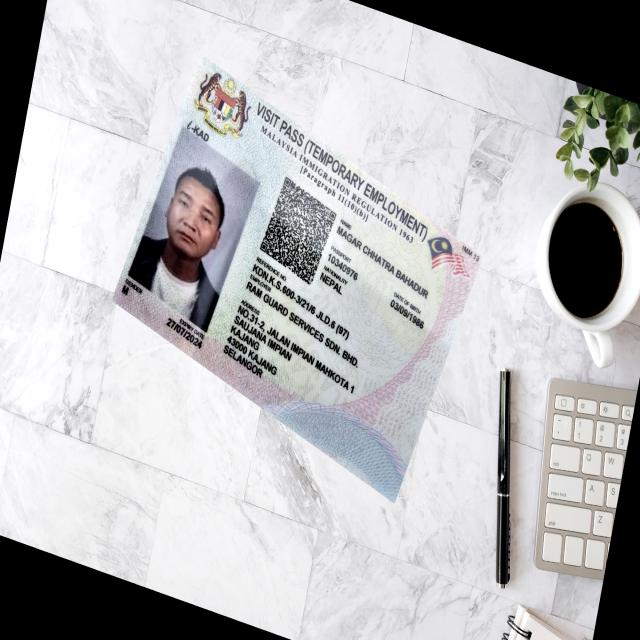ikad-temp: (111, 54, 481, 504)
